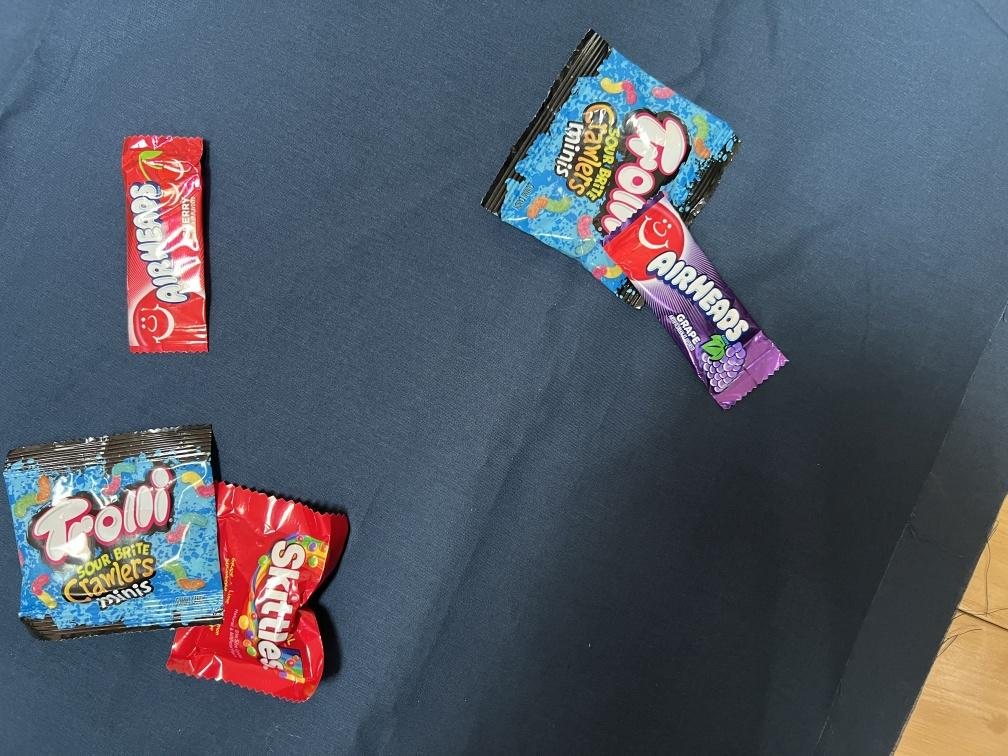Trolli: (478, 28, 743, 309), (1, 427, 229, 642)
airheads: (599, 189, 802, 418), (117, 130, 220, 363)
skittles: (163, 470, 360, 707)
